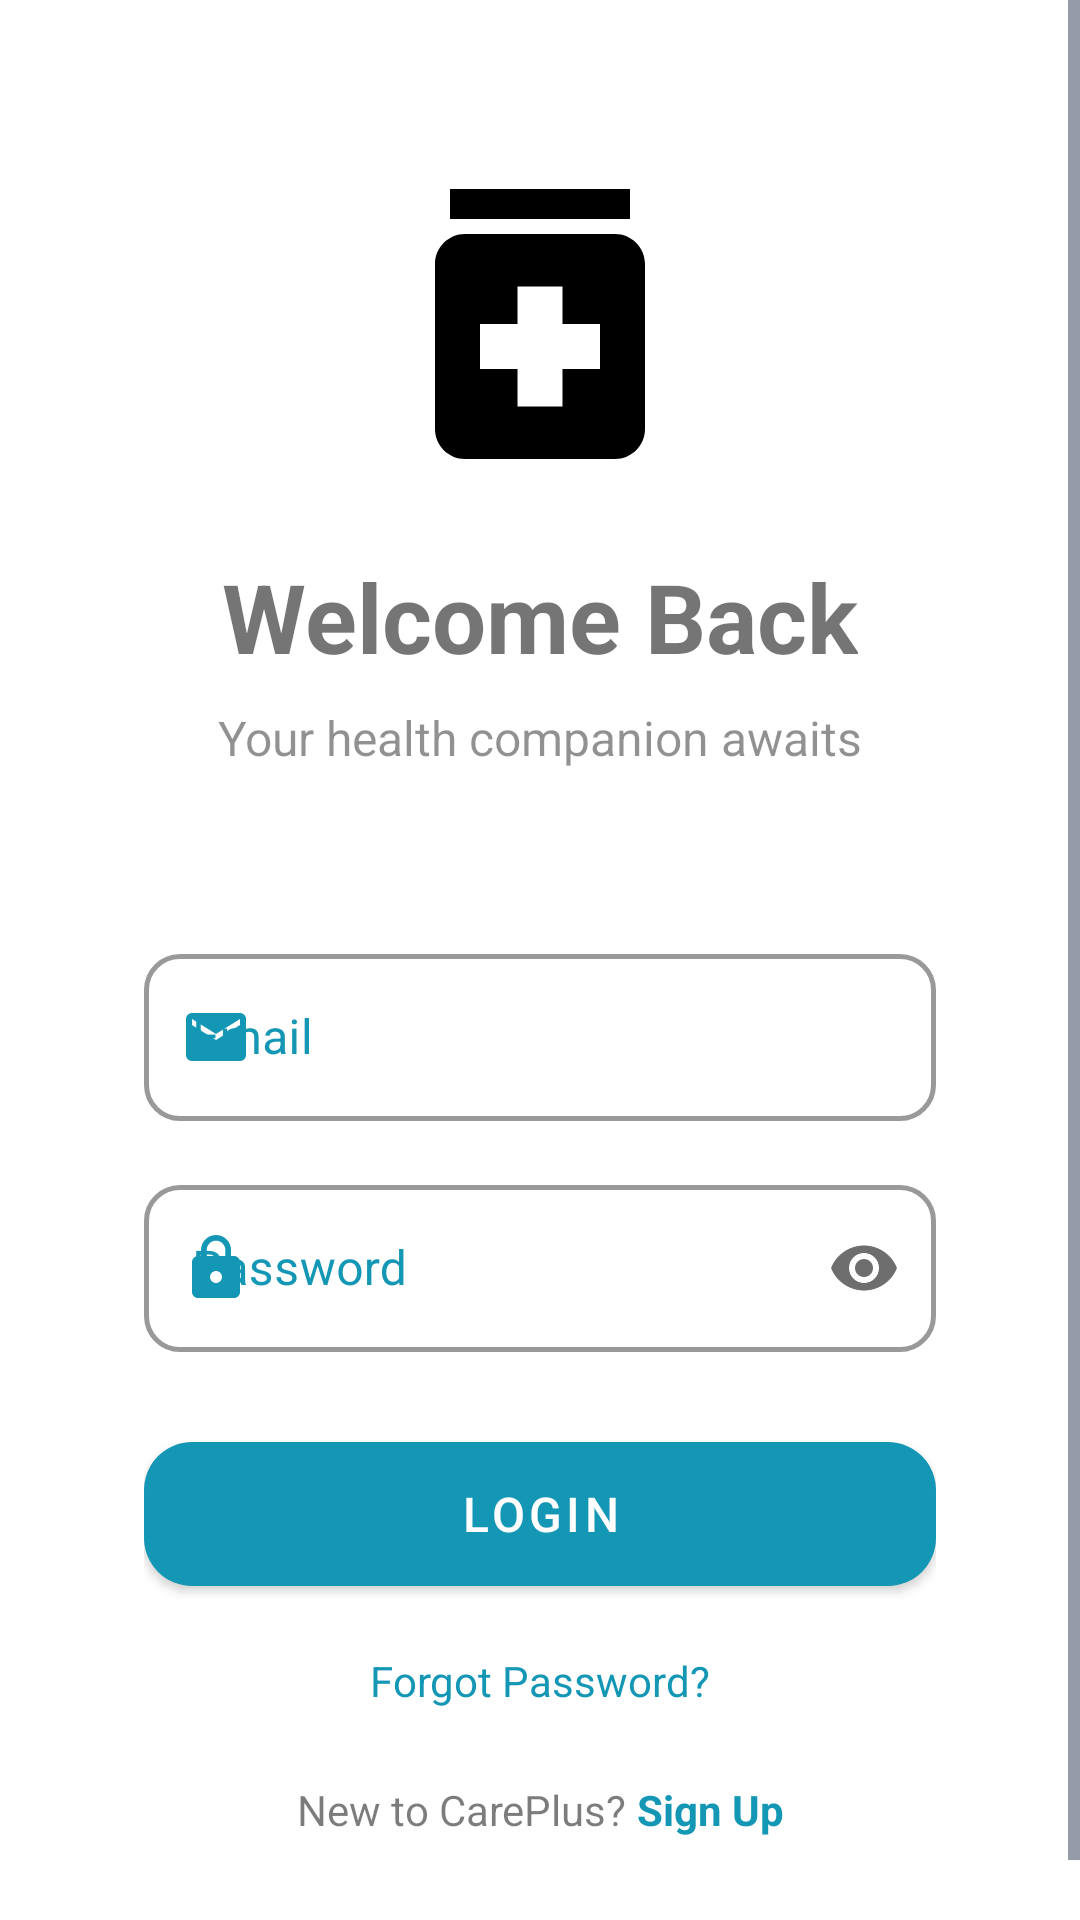

Named icons in this screenshot (1080x1920) and their centers, (x,y):
medication: (540,324)
